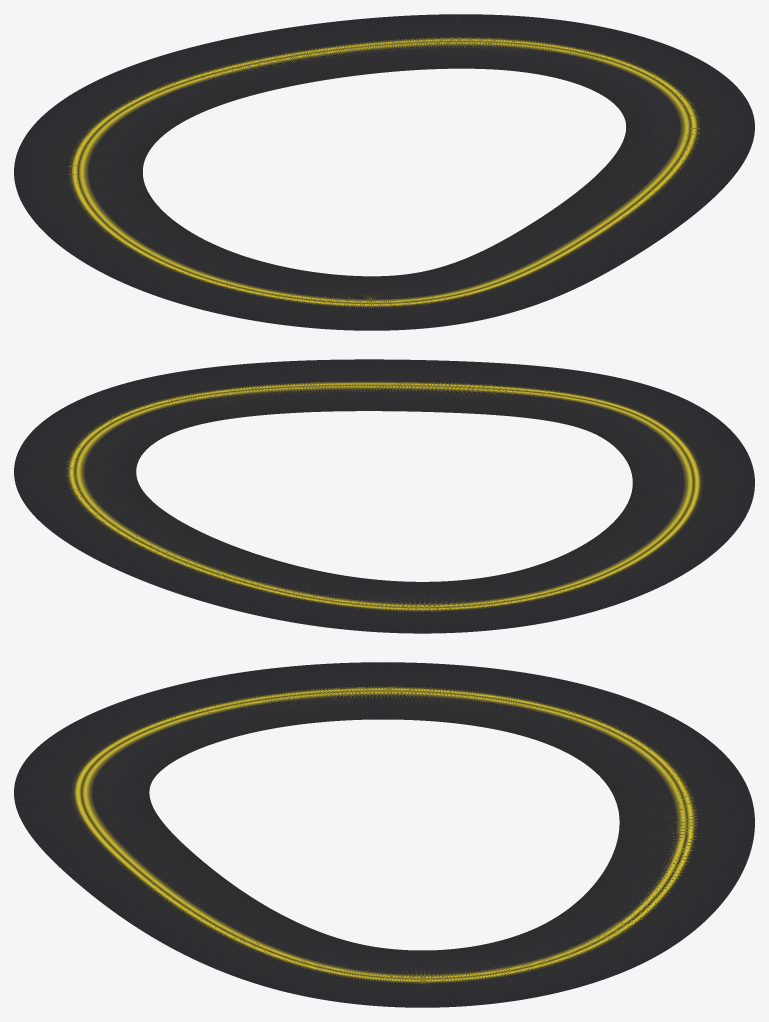
3 views of the same model, one above another, from view 1: azimuth 30°, elevation 25°; view 2: azimuth 150°, elevation 25°; view 3: azimuth 270°, elevation 25° (orthographic). The views are drawn at different scales.
Parts seen in each view (by area): view 1: road; view 2: road; view 3: road.
Boxes of the visible parts, x1=… form: road: x1=14, y1=14, x2=754, y2=330; road: x1=14, y1=359, x2=754, y2=633; road: x1=14, y1=662, x2=754, y2=1007.
Size of the model in its own units: 1.09 by 0 by 0.9846.
Materials: 1 (1 with a texture image).
